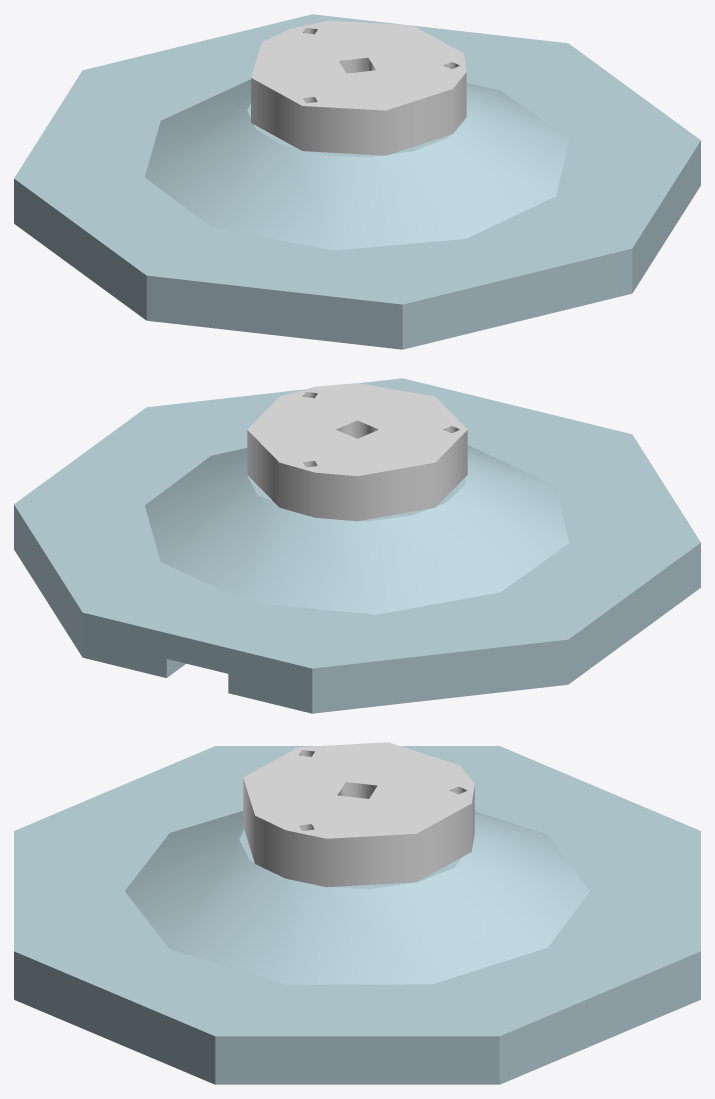
3 views of the same model, one above another, from view 1: azimuth 30°, elevation 25°; view 2: azimuth 150°, elevation 25°; view 3: azimuth 270°, elevation 25° (orthographic). The views are drawn at different scales.
Visible parts, largest first — view 1: base; view 2: base; view 3: base.
Part boxes in pixels (x1,y1,x2,y2): base: (14, 14, 700, 349); base: (14, 378, 700, 713); base: (14, 742, 700, 1084).
Size of the model in its own units: 1.67 by 0.4009 by 1.67.
